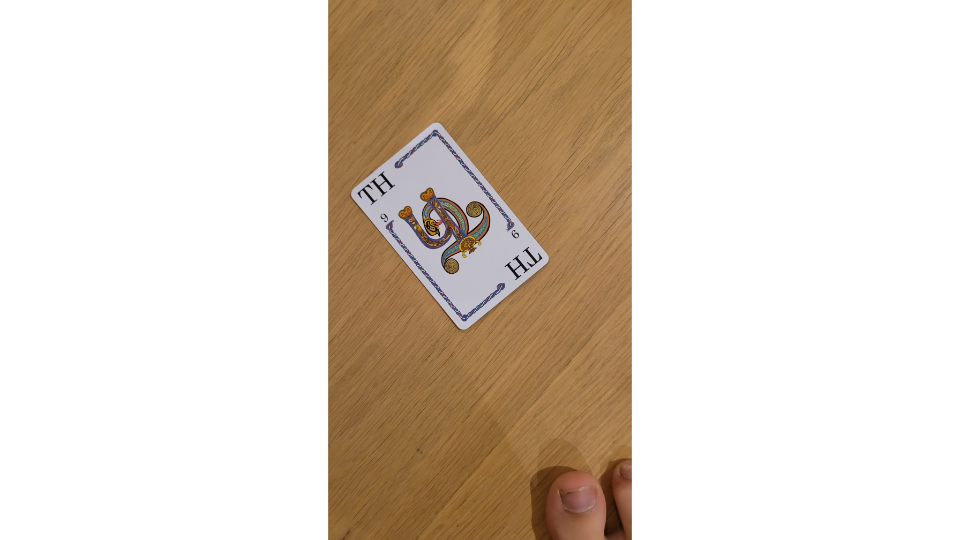TH: (348, 119, 554, 334)
